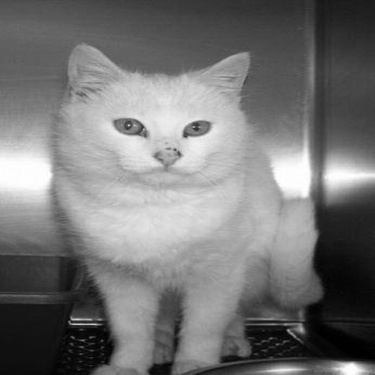cat: (55, 42, 323, 372)
